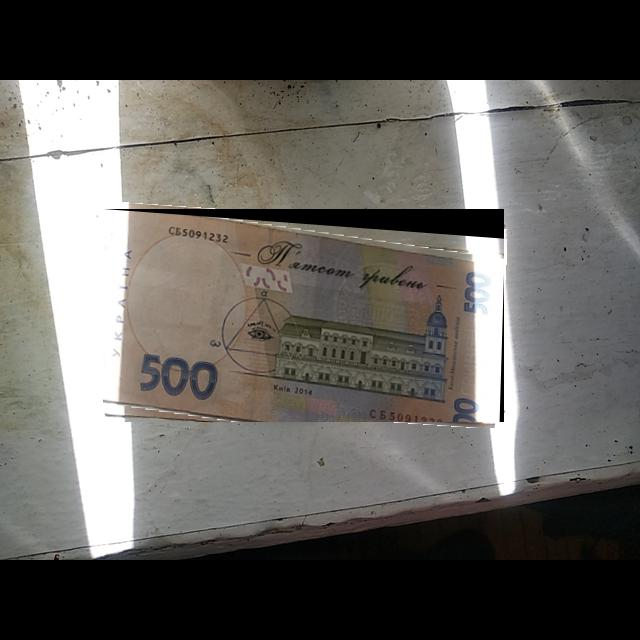500uah: (103, 209, 505, 423)
